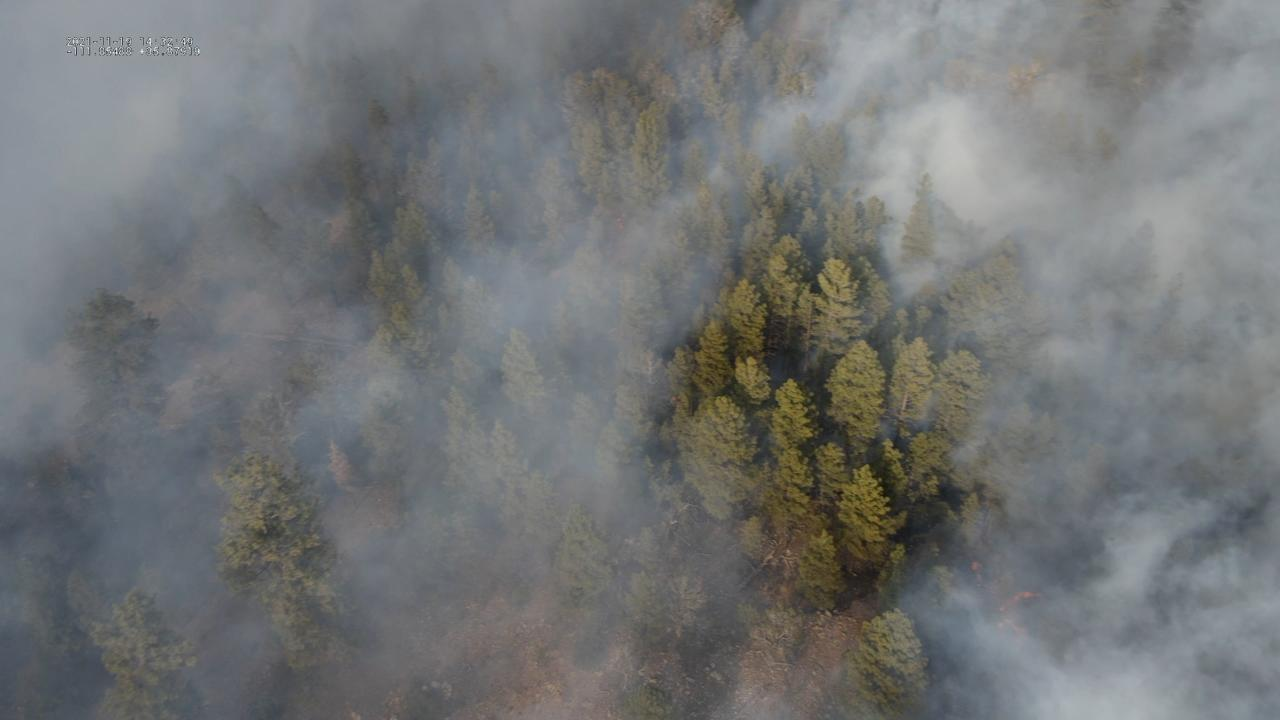fire: (999, 589, 1042, 639), (969, 561, 983, 572)
smoke: (0, 0, 1280, 720)
